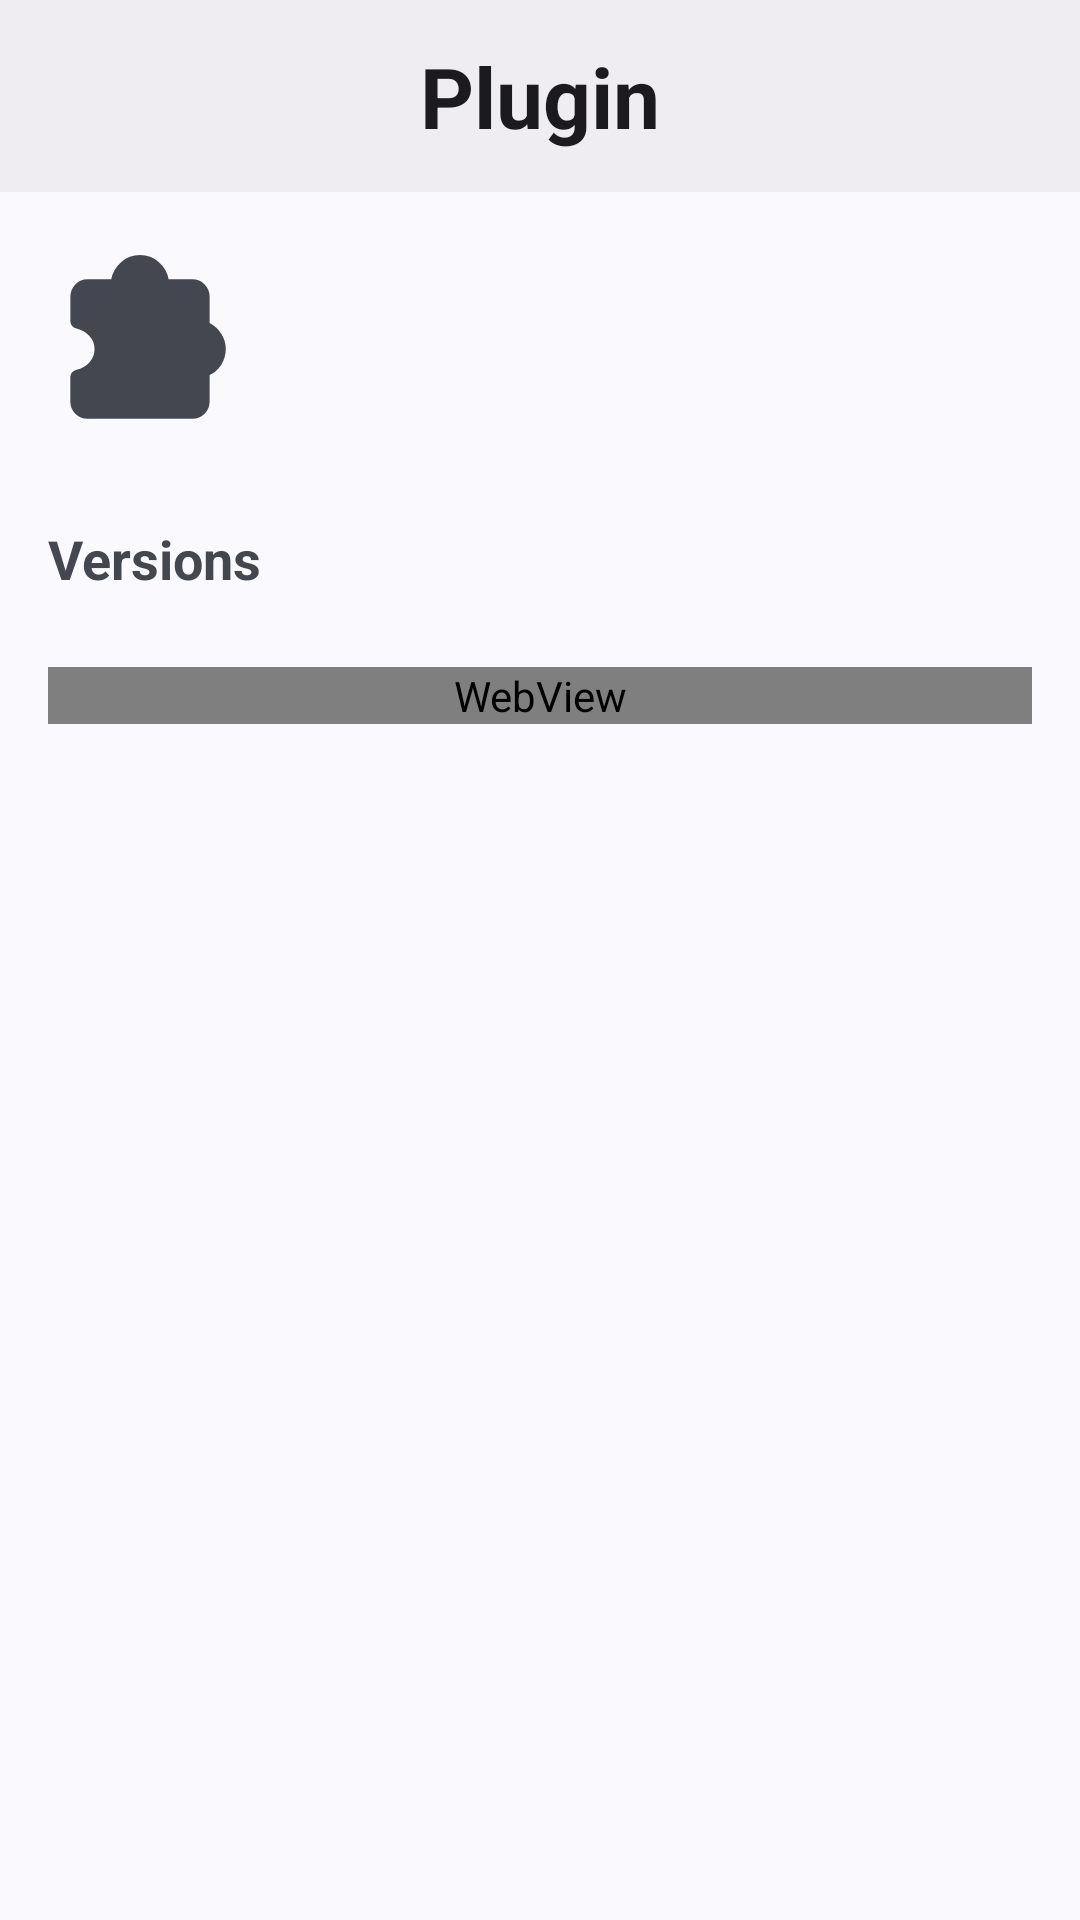

Locate icon controls on the screen. Image size 1080px×1920px, boxes as bbox=[x1, y1, x2, y2].
extension: bbox=[70, 255, 226, 419]
